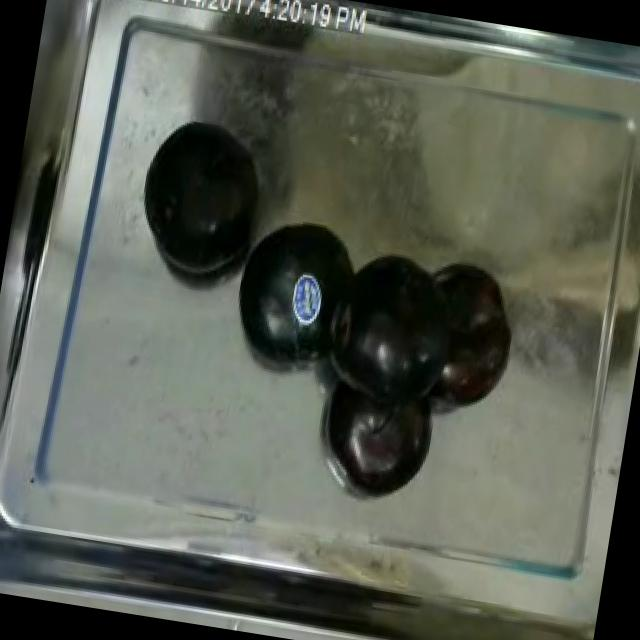Fruit: (125, 106, 280, 292), (277, 262, 334, 333)
